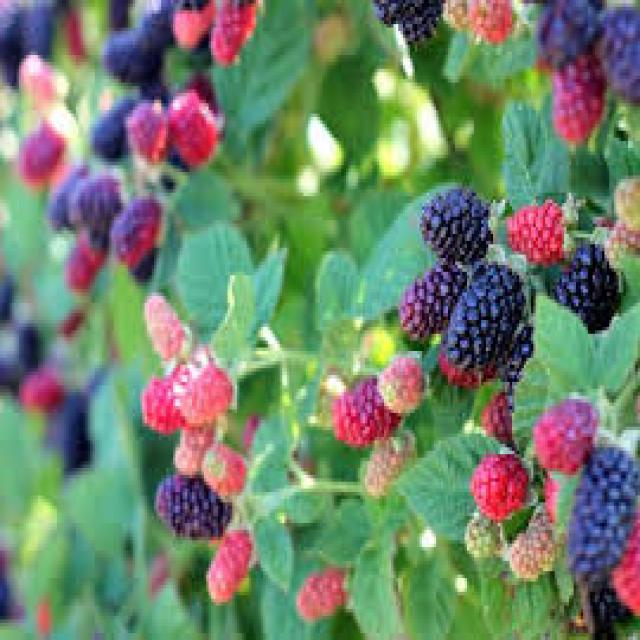organic waste: (566, 444, 633, 564), (441, 258, 519, 361), (552, 244, 619, 341), (420, 190, 493, 268), (529, 392, 597, 472), (149, 475, 230, 537), (548, 52, 600, 141), (535, 0, 609, 58), (329, 375, 396, 437), (0, 0, 52, 79), (597, 3, 638, 100), (391, 276, 462, 330), (43, 389, 90, 468), (507, 196, 574, 251), (162, 96, 214, 166), (19, 107, 69, 179), (66, 186, 124, 248), (114, 182, 161, 255), (173, 354, 230, 413), (142, 292, 187, 365), (474, 451, 531, 506), (508, 516, 560, 575), (213, 0, 265, 58), (576, 574, 623, 636), (204, 533, 246, 599), (104, 31, 161, 79), (614, 502, 638, 612), (377, 354, 424, 410), (126, 103, 168, 165), (294, 568, 346, 616), (45, 186, 95, 234), (137, 382, 185, 427), (93, 100, 135, 151), (201, 444, 242, 495), (365, 441, 412, 485), (19, 55, 64, 100), (508, 320, 540, 382), (171, 0, 211, 48), (398, 0, 440, 41), (0, 550, 24, 620), (612, 175, 638, 238), (171, 426, 213, 464), (19, 372, 64, 406), (54, 0, 83, 52), (476, 0, 514, 38), (14, 313, 40, 368), (481, 392, 512, 434), (144, 0, 175, 41), (178, 69, 213, 100), (125, 244, 158, 276), (0, 351, 24, 389), (374, 0, 408, 24), (106, 0, 130, 34), (444, 0, 476, 24), (0, 268, 14, 306)
